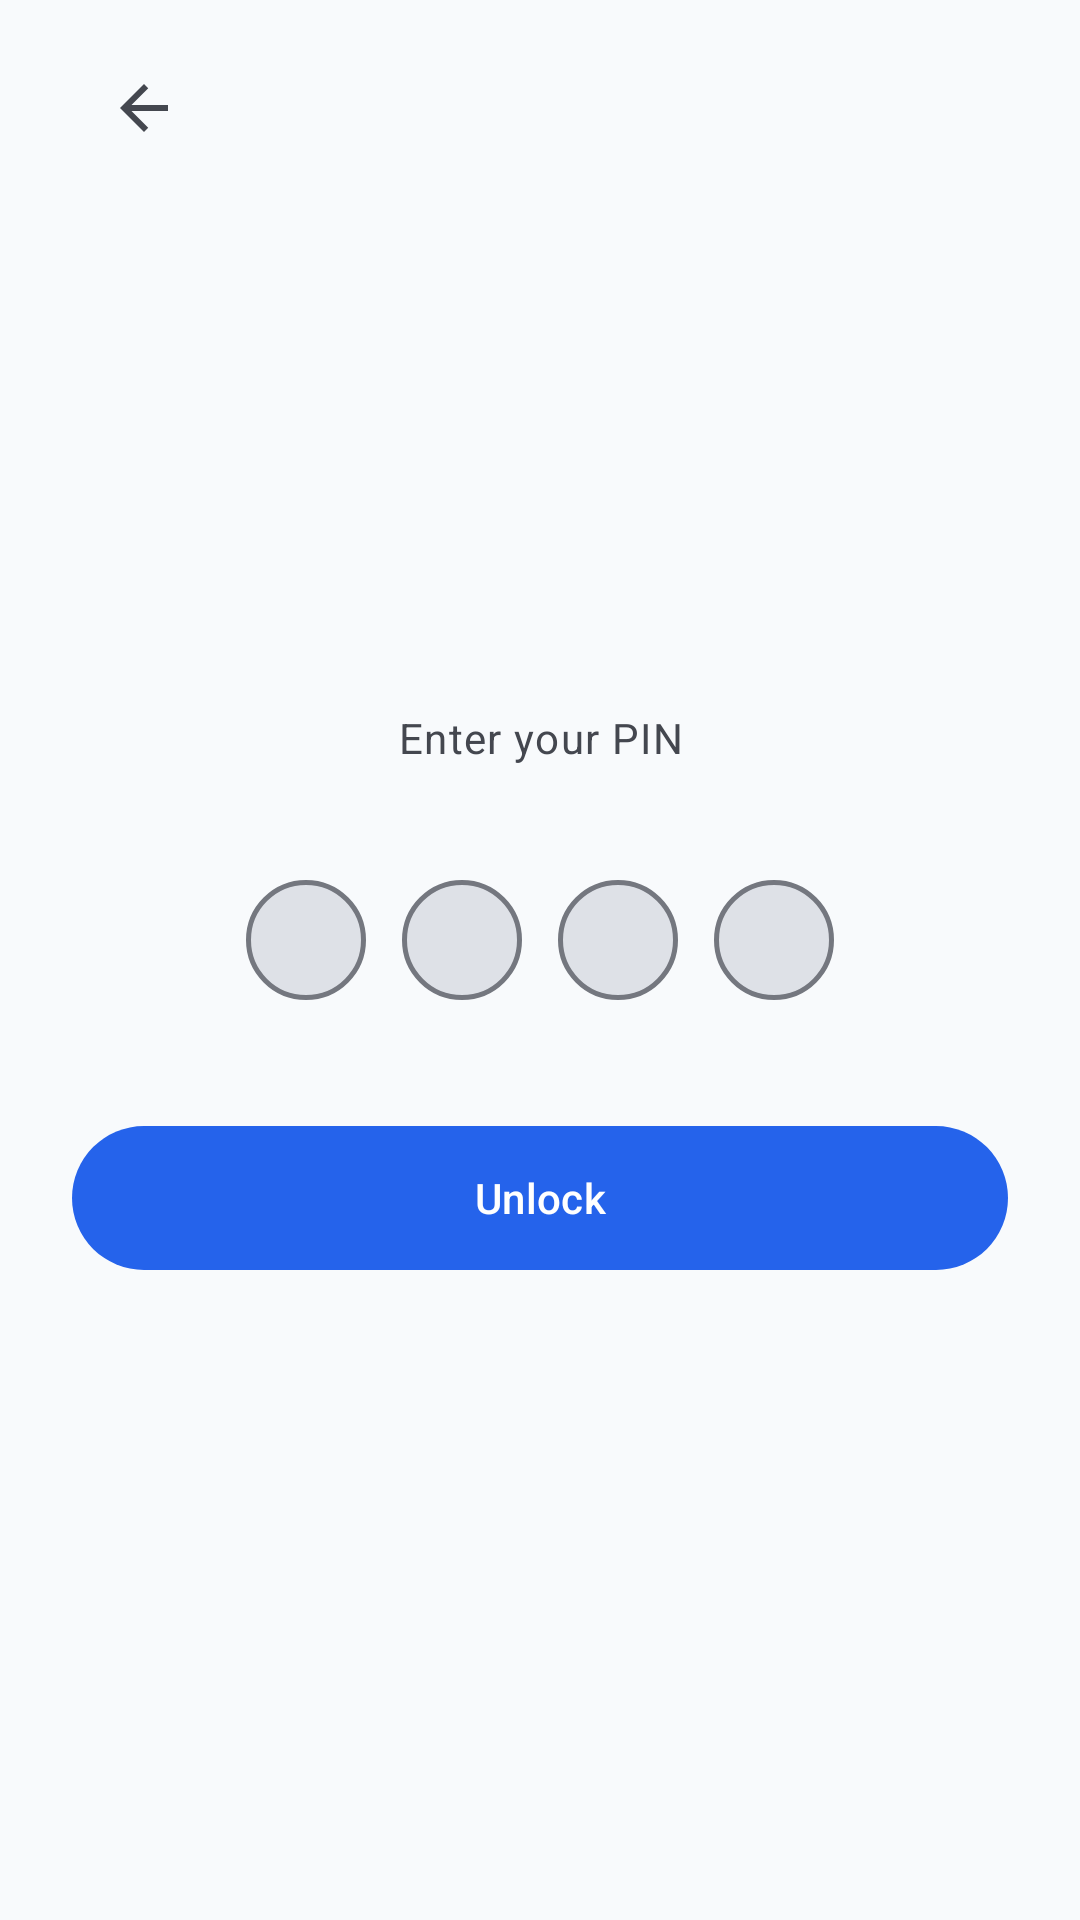

Icon click points for this 1080px x 1920px phone screenshot, format [x,y]:
Back: [144,108]
